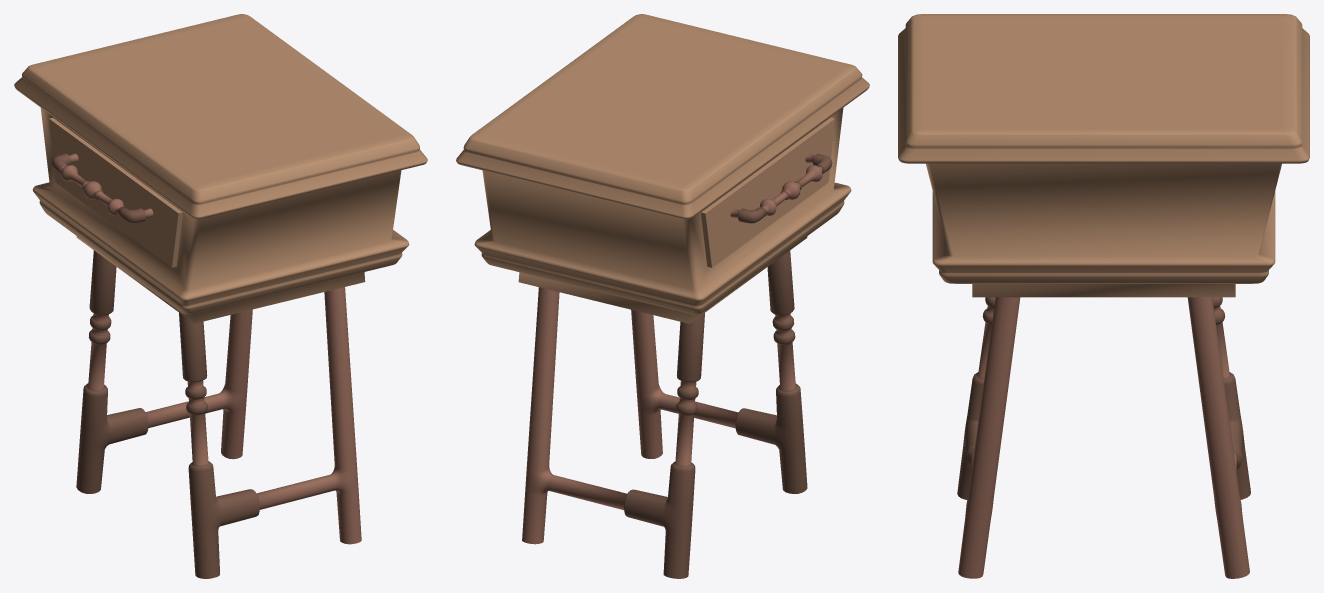
File: CoffeTable.fbx
3 views of the same model, side by side, from view 1: azimuth 30°, elevation 25°; view 2: azimuth 150°, elevation 25°; view 3: azimuth 270°, elevation 25° (orthographic). The views are drawn at different scales.
Parts seen in each view (by area): view 1: Table_Coffee_Top.001, Table_Coffee_Drawer; view 2: Table_Coffee_Top.001, Table_Coffee_Drawer; view 3: Table_Coffee_Top.001.
Part boxes in pixels (box(x1,y1,x2,y2)): Table_Coffee_Top.001: box(14, 14, 427, 578); Table_Coffee_Drawer: box(49, 117, 182, 267); Table_Coffee_Top.001: box(456, 14, 869, 578); Table_Coffee_Drawer: box(701, 117, 834, 267); Table_Coffee_Top.001: box(898, 14, 1309, 578).
Size of the model in its own units: 1031 by 1606 by 1293.
